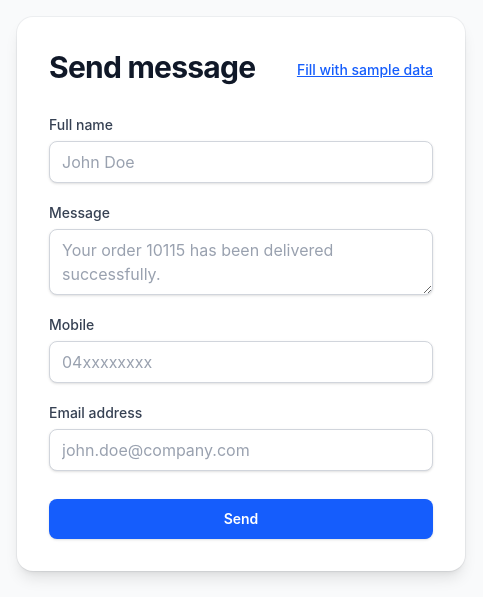
Test: App Component › should fill form with sample data when "Fill with sample data" is clicked
Check: the field labelled "Full name" is empty, box [49,141,433,183]
Check: the text box labelled "Message" is empty, box [49,229,433,295]
Click the button "Fill with sample data".
click(365, 70)  # box [297,60,433,80]
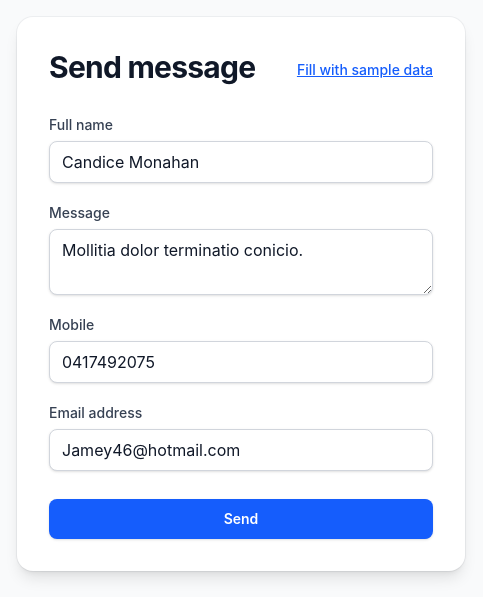
Check: the field labelled "Full name" is not empty, box [49,141,433,183]
Check: the text box labelled "Message" is not empty, box [49,229,433,295]
Check: the field labelled "Mobile" is not empty, box [49,341,433,383]
